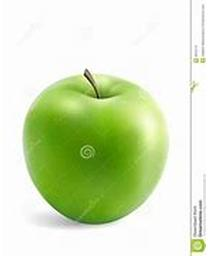apple: (23, 68, 171, 225)
